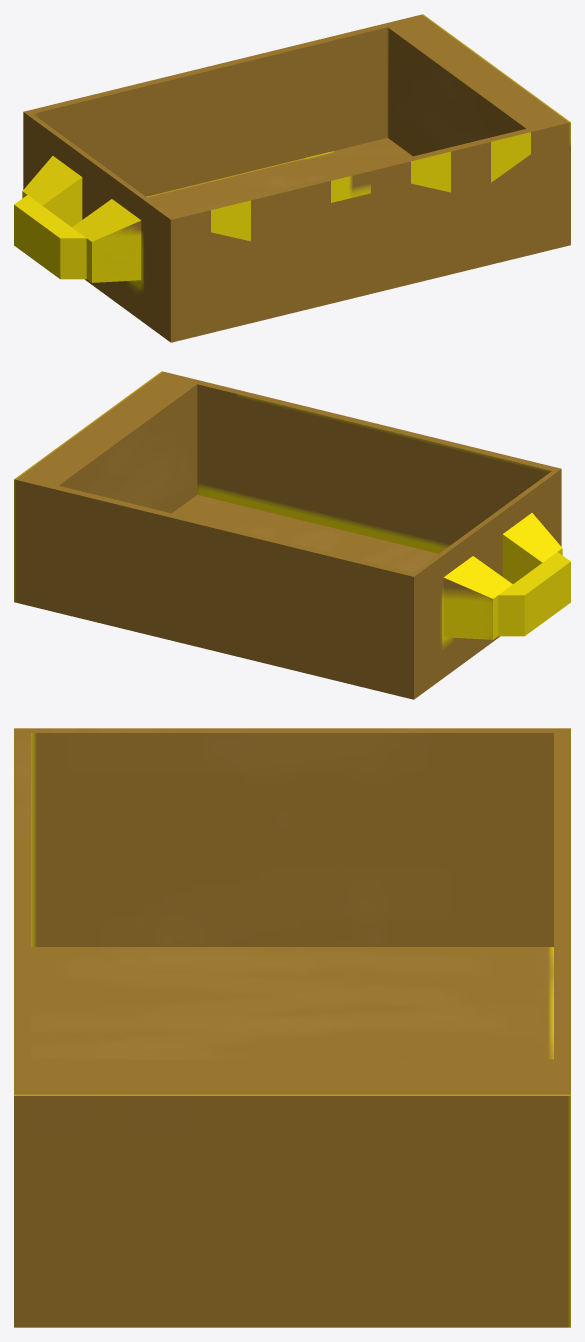
File: mod_env_lootdrawer.fbx
3 views of the same model, one above another, from view 1: azimuth 30°, elevation 25°; view 2: azimuth 150°, elevation 25°; view 3: azimuth 270°, elevation 25° (orthographic). The views are drawn at different scales.
Visible parts, largest first — view 1: pCube1; view 2: pCube1; view 3: pCube1.
Part boxes in pixels (x1,y1,x2,y2): pCube1: (14, 14, 570, 342); pCube1: (14, 371, 570, 699); pCube1: (14, 728, 570, 1327).
Bounding box in the file's own units: 3.92 × 1 × 2.18.
